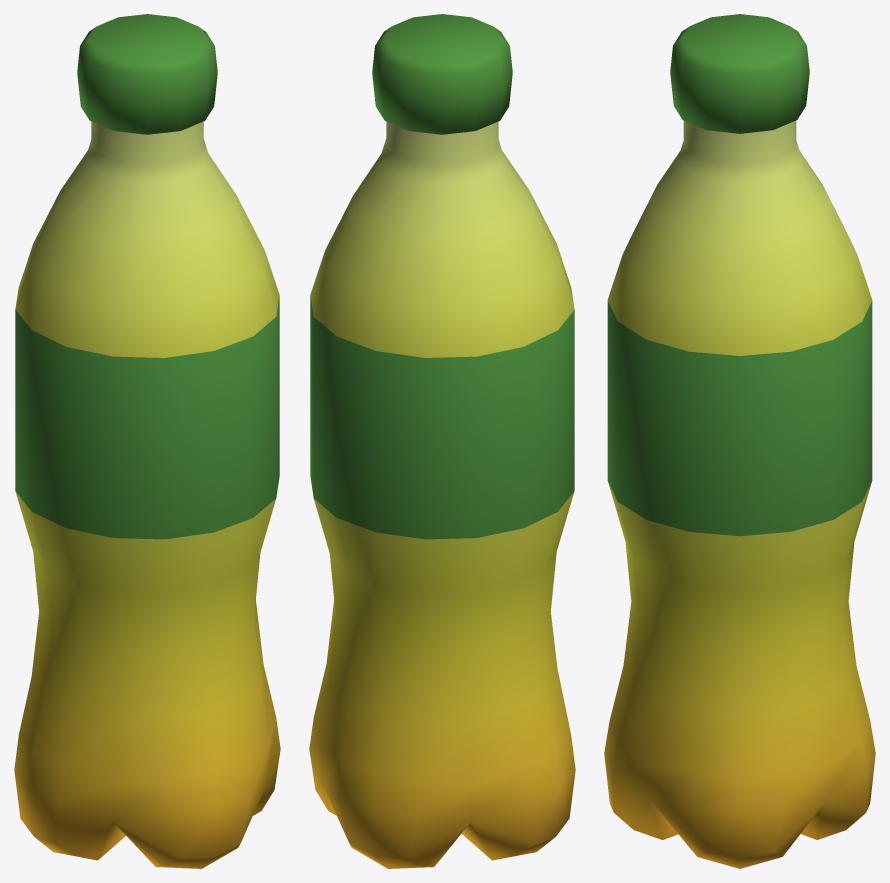
The model's file is bottle_001.fbx.
3 views of the same model, side by side, from view 1: azimuth 30°, elevation 25°; view 2: azimuth 150°, elevation 25°; view 3: azimuth 270°, elevation 25° (orthographic).
Visible parts, largest first — view 1: bottle_001; view 2: bottle_001; view 3: bottle_001.
Boxes of the visible parts, x1,y1,x2,y2 form: bottle_001: [14, 14, 280, 868]; bottle_001: [309, 14, 575, 868]; bottle_001: [604, 14, 875, 868].
Bounding box in the file's own units: 6.14 × 6.14 × 19.86.
